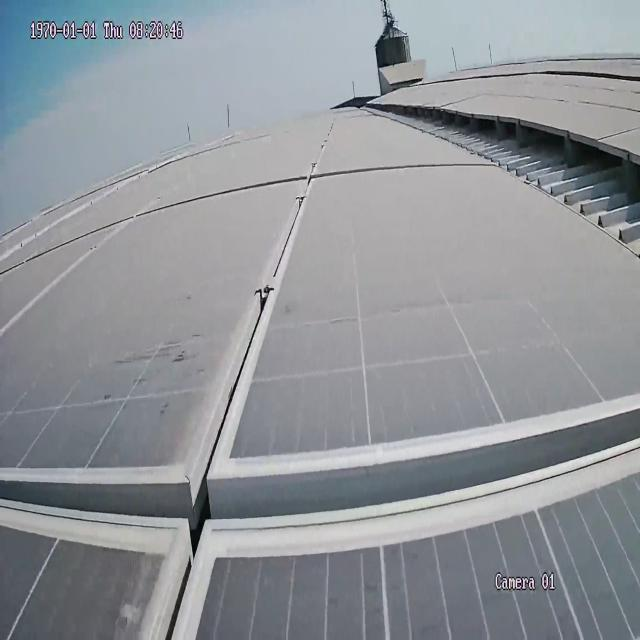interior panel: (0, 122, 637, 640)
outher panel: (381, 103, 640, 264)
